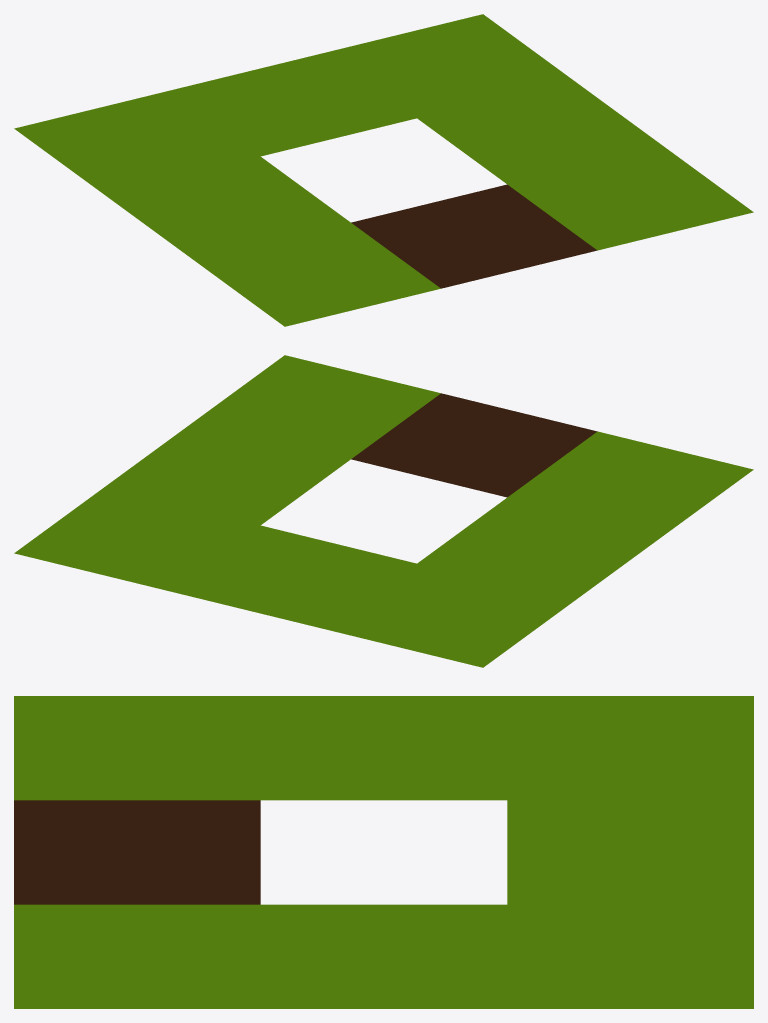
The model's file is sueloAlrededor.fbx.
3 renders of one model, top to bottom at view 1: azimuth 30°, elevation 25°; view 2: azimuth 150°, elevation 25°; view 3: azimuth 270°, elevation 25°, orthographic. The views are drawn at different scales.
Parts seen in each view (by area): view 1: Plane002; view 2: Plane002; view 3: Plane002.
Boxes of the visible parts, x1=… form: Plane002: x1=14, y1=14, x2=753, y2=326; Plane002: x1=14, y1=355, x2=753, y2=667; Plane002: x1=14, y1=696, x2=753, y2=1008.
Bounding box in the file's own units: 30 × 1.84e-15 × 30.
